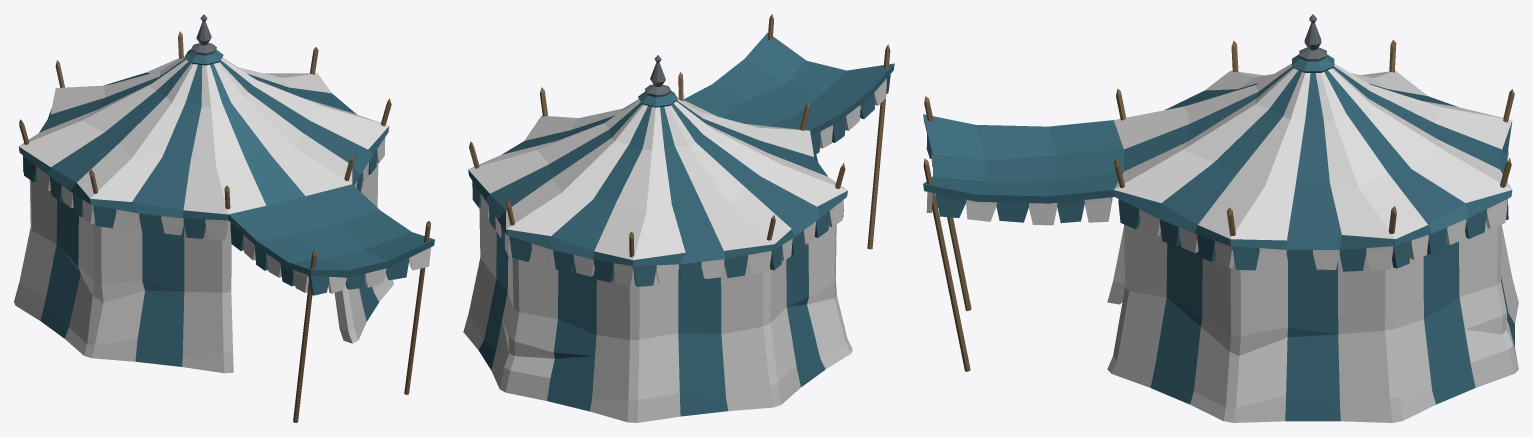
The model's file is bld_tent_round.gltf.
3 renders of one model, left to right at view 1: azimuth 30°, elevation 25°; view 2: azimuth 150°, elevation 25°; view 3: azimuth 270°, elevation 25°, orthographic. The views are drawn at different scales.
Parts seen in each view (by area): view 1: bld_tent_round; view 2: bld_tent_round; view 3: bld_tent_round.
Part boxes in pixels (box(x1,y1,x2,y2)): bld_tent_round: box(14, 14, 434, 422); bld_tent_round: box(463, 14, 894, 422); bld_tent_round: box(923, 14, 1518, 422).
Bounding box in the file's own units: 5.35 × 4.72 × 7.75.
Materials: 1 (1 with a texture image).
